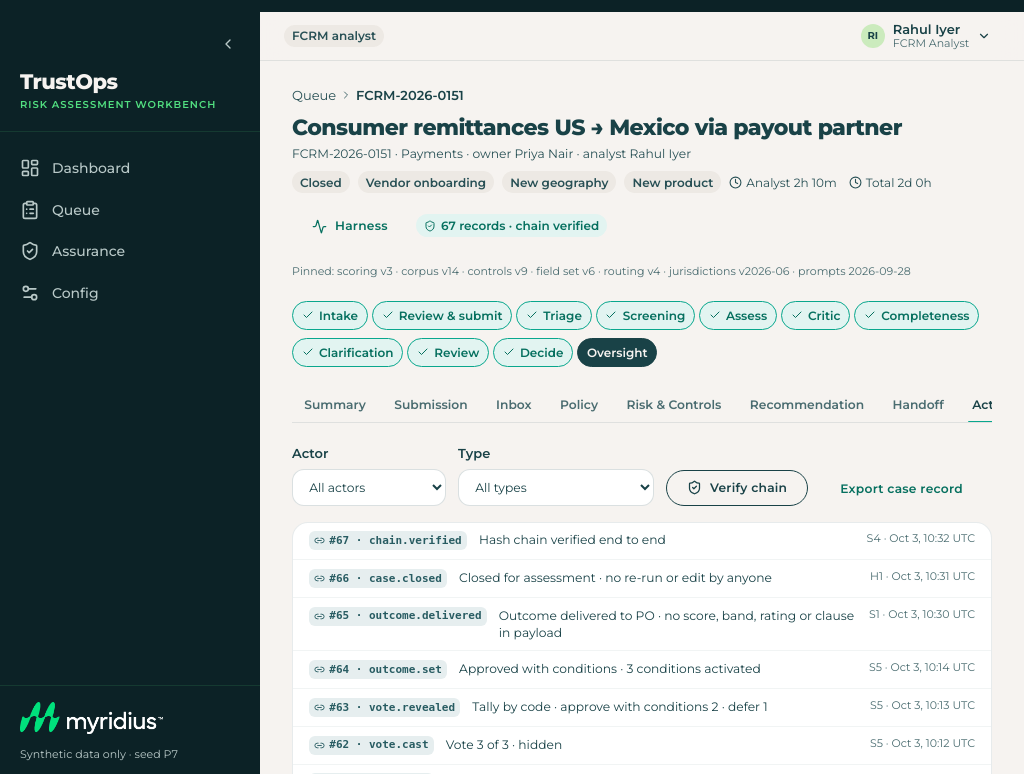
Test case: Verify chain on the analyst Activity tab › shows the record count and that the chain verified, from the mock backend
Click the button "Verify chain": (737, 488) 666,470 -> 808,506
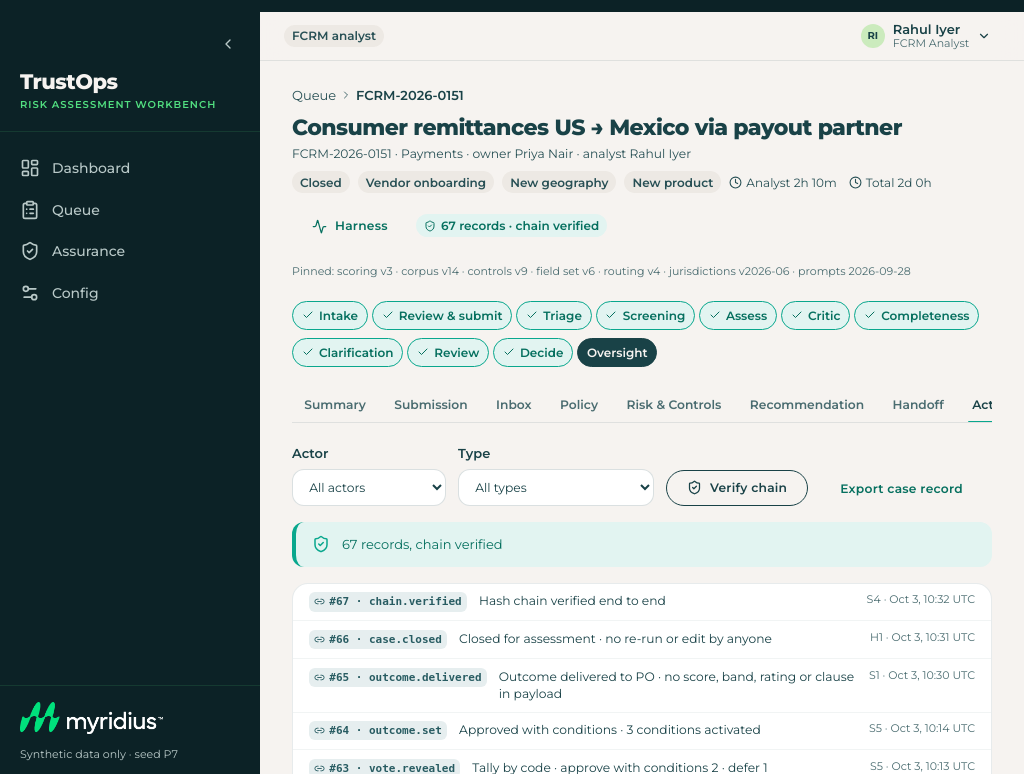
Expected: the text "67 records, chain verified" is shown, 342,536 -> 503,552
